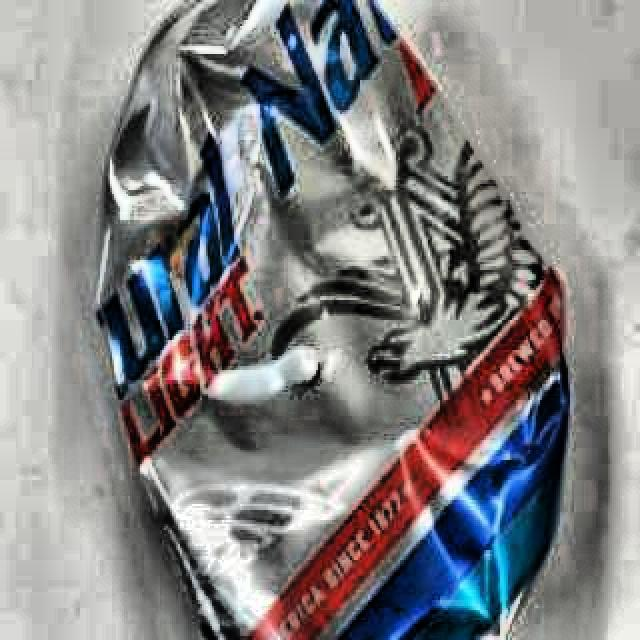metal: (86, 0, 570, 640)
